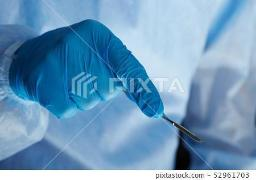scalpel: (161, 112, 203, 144)
